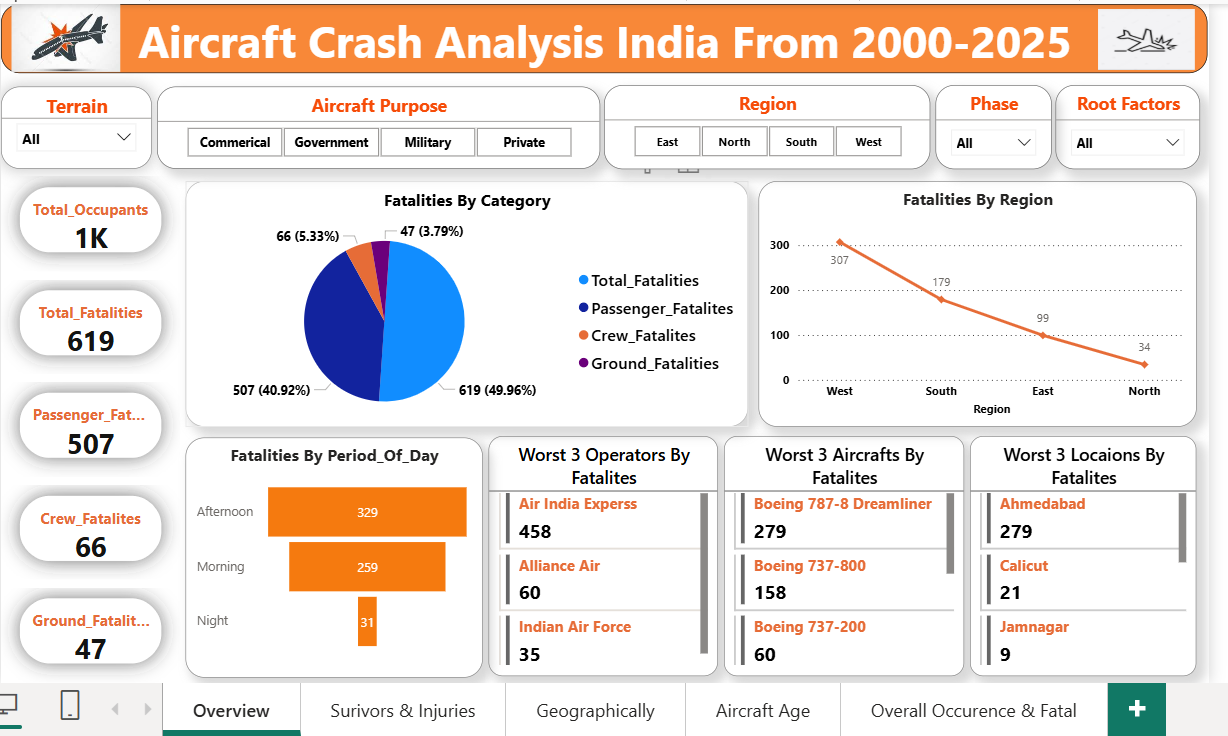

The page's visual inventory and layout, read from the dashboard file:
{"tool":"powerbi","page":{"name":"Overview","canvas":[1280,720],"ordinal":0},"visuals":[{"type":"multiRowCard","title":"Worst 3 Operators By Fatalites","fields":{"Values":["Sum(Crash_Data.Total_Fatalities)","Crash_Data.Aircraft_Operator"]},"box":[517.2,458.3,243.5,254.6],"z":0},{"type":"multiRowCard","title":"Worst 3 Aircrafts By Fatalites","fields":{"Values":["Sum(Crash_Data.Total_Fatalities)","Crash_Data.Aircraft"]},"box":[767,458.3,254.6,254.6],"z":1000},{"type":"cardVisual","title":"saogfia","fields":{"Data":["Sum(Crash_Data.Total_Occupants)","Sum(Crash_Data.Total_Fatalities)","Sum(Crash_Data.Passenger_Fatalites)","Sum(Crash_Data.Crew_Fatalites)","Sum(Crash_Data.Ground_Fatalities)"]},"box":[0,162.3,195.7,558.6],"z":2000},{"type":"pieChart","title":"Fatalities By Category","fields":{"Y":["Sum(Crash_Data.Passenger_Fatalites)","Sum(Crash_Data.Crew_Fatalites)","Sum(Crash_Data.Ground_Fatalities)"]},"box":[195.7,187,596.8,261],"z":3000},{"type":"lineChart","title":"Fatalities By Region","fields":{"Category":["Crash_Data.Region"],"Y":["Sum(Crash_Data.Total_Fatalities)"]},"box":[803.3,187.7,464.5,260.9],"z":4000},{"type":"funnel","title":" Fatalities By Period_Of_Day","fields":{"Category":["Crash_Data.Period_Of_Day"],"Y":["Sum(Crash_Data.Total_Fatalities)"]},"box":[195.7,459,315.1,254.6],"z":5000},{"type":"slicer","title":"Terrain","fields":{"Values":["Crash_Data.Terrain"]},"box":[0,87.5,160,87.5],"z":6000},{"type":"multiRowCard","title":"Worst 3 Locaions By Fatalites","fields":{"Values":["Crash_Data.Location","Sum(Crash_Data.Total_Fatalities)"]},"box":[1028,458.3,240.3,254.6],"z":7000},{"type":"textbox","title":"Aircraft Crash Analysis India From 2000-2025 ","box":[0,0,1279.5,73.2],"z":8000},{"type":"image","box":[11.1,0,135.3,73.2],"z":9000},{"type":"slicer","title":"Aircraft Purpose","fields":{"Values":["Crash_Data.Aircraft_Purpose"]},"box":[165.5,87.5,470,87.5],"z":10000},{"type":"slicer","title":"Region","fields":{"Values":["Crash_Data.Region"]},"box":[639.7,85.9,346,89.1],"z":11000},{"type":"slicer","title":"Root Factors","fields":{"Values":["Crash_Data.Root_Factors"]},"box":[1118.7,85.9,153,89.1],"z":12000},{"type":"slicer","title":"Phase","fields":{"Values":["Crash_Data.Crash_Phase"]},"box":[991.4,85.9,123,89.1],"z":13000},{"type":"image","box":[1158.5,0,113,74.8],"z":14000},{"type":"card","title":"Occupants","fields":{"Values":["Sum(Crash_Data.Total_Occupants)"]},"box":[20.7,187.7,154.3,74.8],"z":15000}]}

Visuals, with their boxes on the page's 1280x720 design canvas (x1, y1, x2, y2). These are canvas units, not pixel positions in the 1228x736 screenshot, which may show the page scaled, cropped or inside an application window:
"Worst 3 Operators By Fatalites" multiRowCard: [x1=517, y1=458, x2=761, y2=713]
"Worst 3 Aircrafts By Fatalites" multiRowCard: [x1=767, y1=458, x2=1022, y2=713]
"saogfia" cardVisual: [x1=0, y1=162, x2=196, y2=721]
"Fatalities By Category" pieChart: [x1=196, y1=187, x2=792, y2=448]
"Fatalities By Region" lineChart: [x1=803, y1=188, x2=1268, y2=449]
" Fatalities By Period_Of_Day" funnel: [x1=196, y1=459, x2=511, y2=714]
"Terrain" slicer: [x1=0, y1=88, x2=160, y2=175]
"Worst 3 Locaions By Fatalites" multiRowCard: [x1=1028, y1=458, x2=1268, y2=713]
"Aircraft Crash Analysis India From 2000-2025 " textbox: [x1=0, y1=0, x2=1280, y2=73]
image: [x1=11, y1=0, x2=146, y2=73]
"Aircraft Purpose" slicer: [x1=166, y1=88, x2=636, y2=175]
"Region" slicer: [x1=640, y1=86, x2=986, y2=175]
"Root Factors" slicer: [x1=1119, y1=86, x2=1272, y2=175]
"Phase" slicer: [x1=991, y1=86, x2=1114, y2=175]
image: [x1=1158, y1=0, x2=1272, y2=75]
"Occupants" card: [x1=21, y1=188, x2=175, y2=262]
